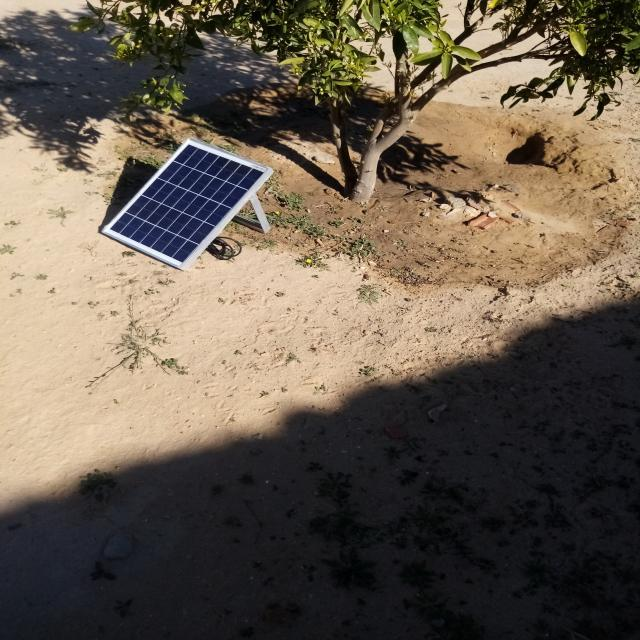no faulty: (102, 137, 271, 270)
